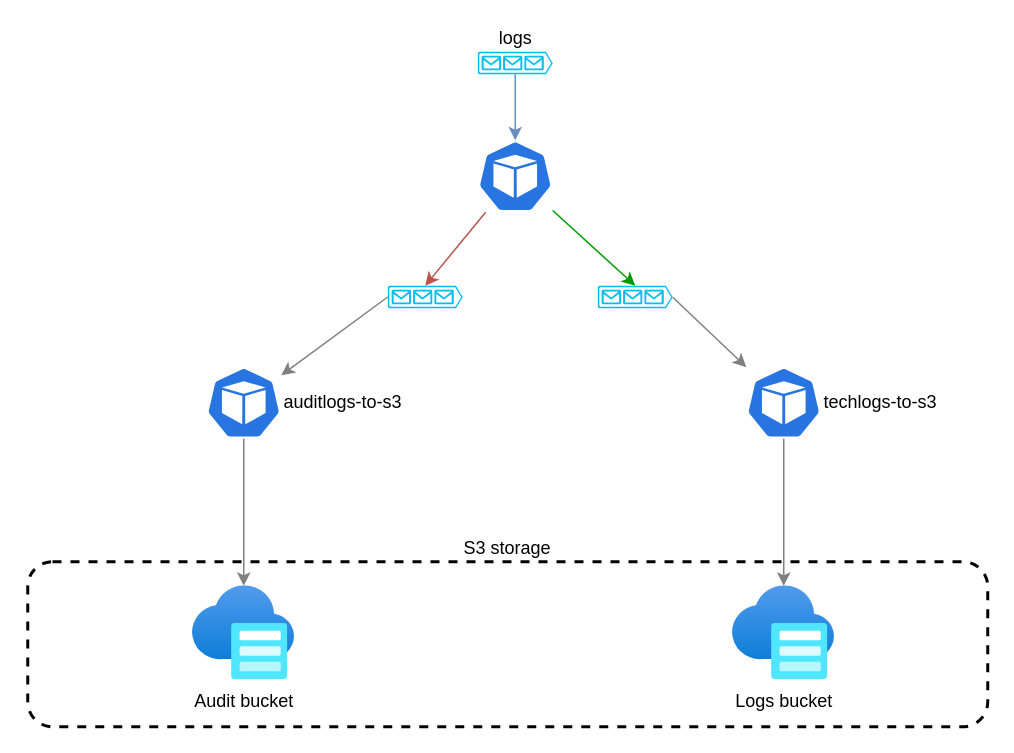
Some shapes in this 1014 by 753 pixel diagram are drawn without their labels. Here are the shapes that lost their labels. From the top down, the centre of each, then its label:
[514,175]: logs-splitter
[424,296]: auditlogs
[634,296]: techlogs
